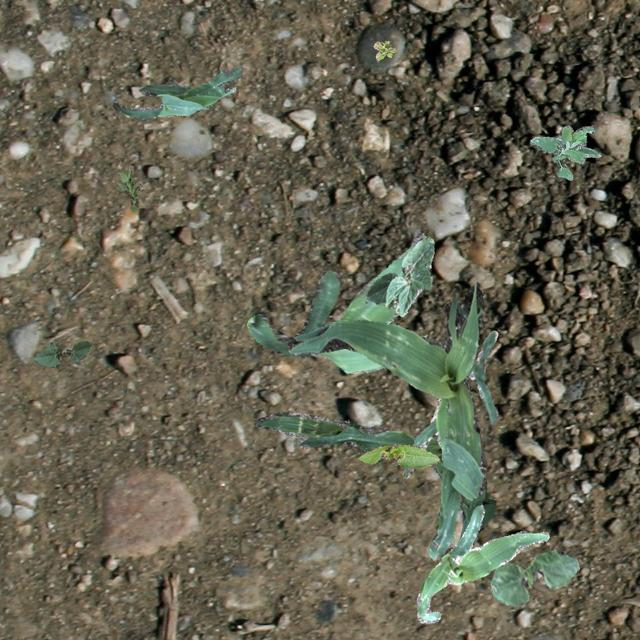crop: (286, 284, 484, 558), (253, 410, 494, 536), (246, 232, 424, 372), (416, 503, 548, 622), (402, 330, 496, 480), (111, 66, 242, 120), (366, 236, 434, 316), (489, 548, 578, 606), (358, 444, 438, 466), (33, 339, 90, 366)
weed: (528, 124, 600, 180), (116, 166, 140, 210), (372, 40, 396, 60)
